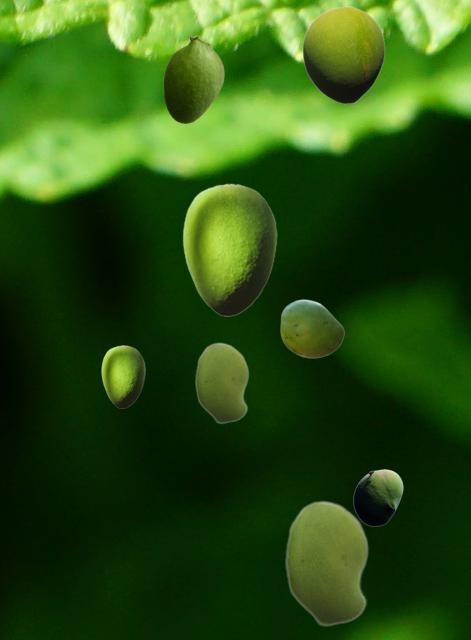green_mango: (182, 183, 276, 315), (285, 500, 368, 626), (302, 6, 384, 103), (163, 35, 223, 122), (195, 342, 248, 423), (280, 299, 343, 357), (353, 469, 402, 525), (101, 345, 144, 407)
